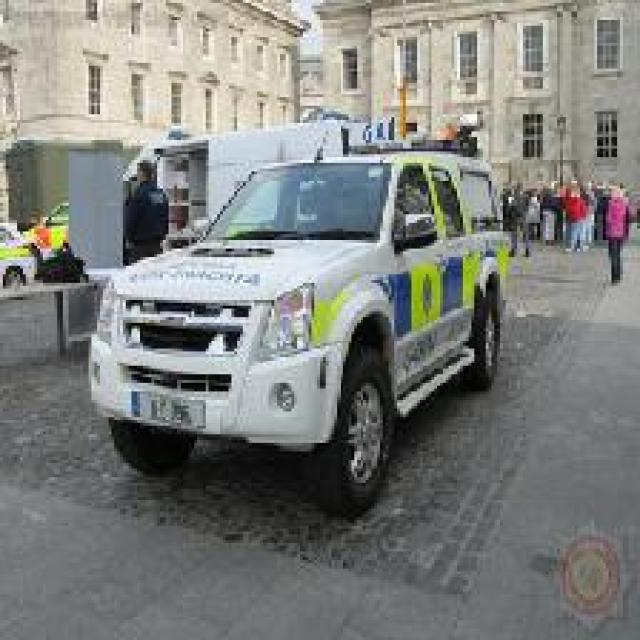emergency: (85, 126, 515, 518)
